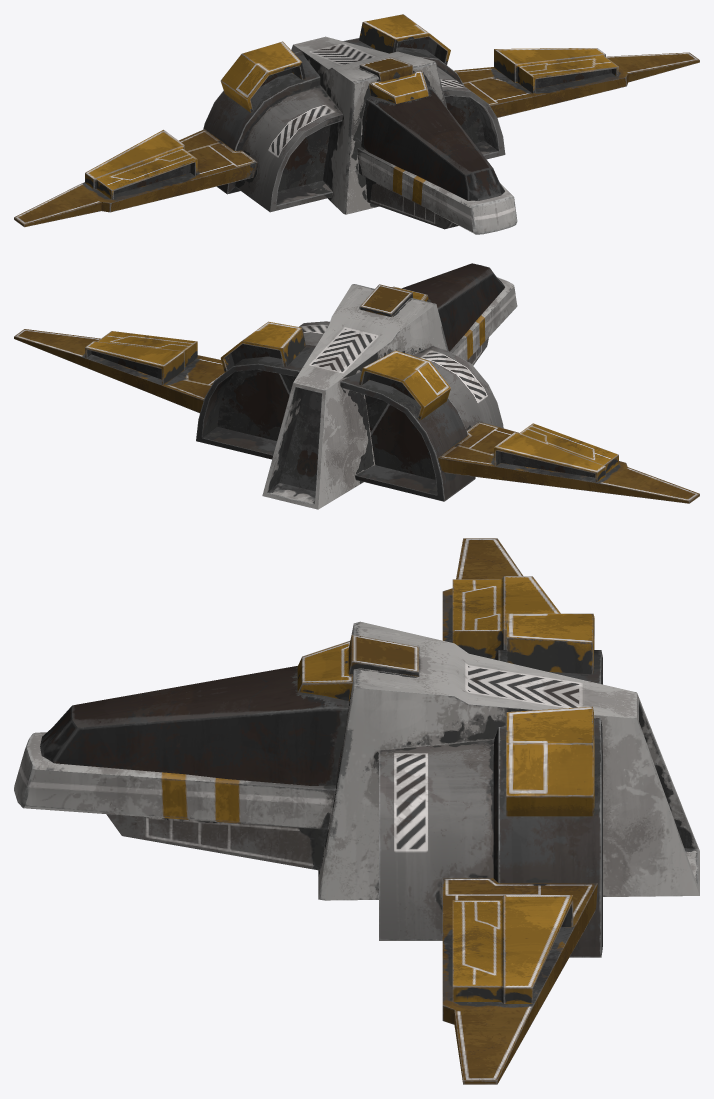
Rendered from Bob.glb.
3 views of the same model, one above another, from view 1: azimuth 30°, elevation 25°; view 2: azimuth 150°, elevation 25°; view 3: azimuth 270°, elevation 25° (orthographic). The views are drawn at different scales.
Parts seen in each view (by area): view 1: Bob; view 2: Bob; view 3: Bob.
Boxes of the visible parts, bbox=[...] form: Bob: bbox=[14, 14, 699, 234]; Bob: bbox=[14, 263, 699, 509]; Bob: bbox=[14, 538, 699, 1084].
Size of the model in its own units: 10.5 by 2.04 by 5.61.
Materials: 1 (1 with a texture image).
